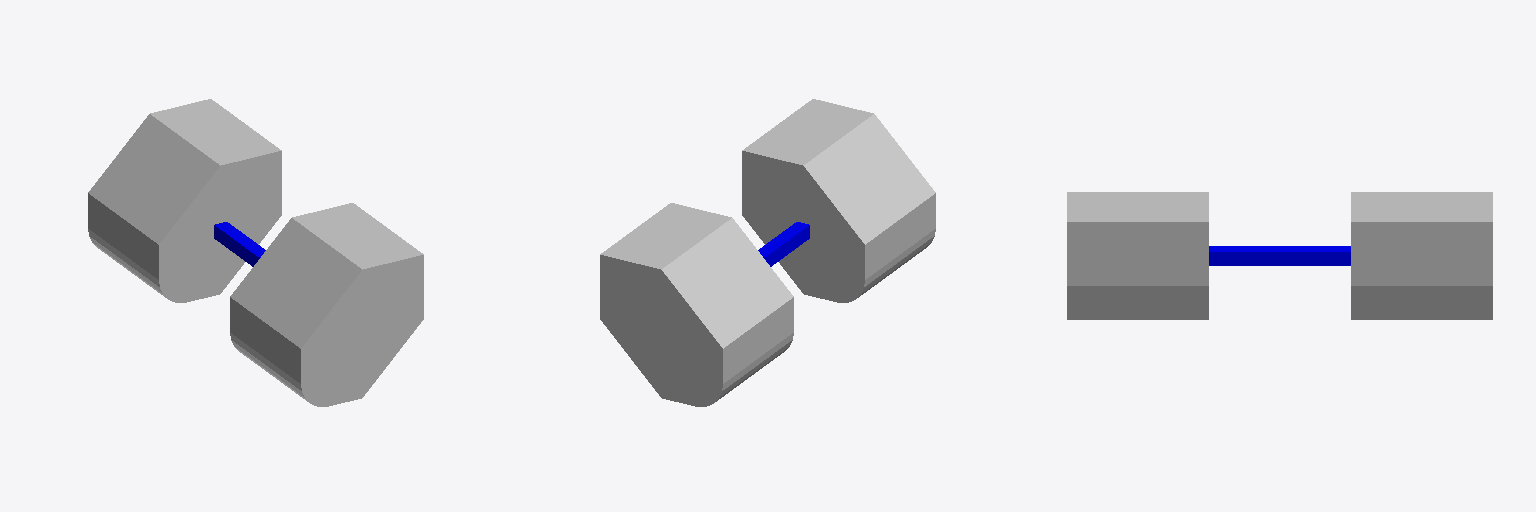
File: godot_materialtest.obj
3 renders of one model, left to right at view 1: azimuth 30°, elevation 25°; view 2: azimuth 150°, elevation 25°; view 3: azimuth 270°, elevation 25°, orthographic.
Parts seen in each view (by area): view 1: Cube.001, Cube.003, Cube.002; view 2: Cube.003, Cube.001, Cube.002; view 3: Cube.001, Cube.003, Cube.002.
Part boxes in pixels (x1,y1,x2,y2): Cube.001: (230,203,423,406); Cube.003: (88,99,281,302); Cube.002: (214,222,265,266); Cube.003: (600,203,793,406); Cube.001: (742,99,935,302); Cube.002: (758,222,809,266); Cube.001: (1067,192,1208,319); Cube.003: (1351,192,1492,319); Cube.002: (1209,246,1350,265).
Size of the model in its own units: 2 by 2 by 6.